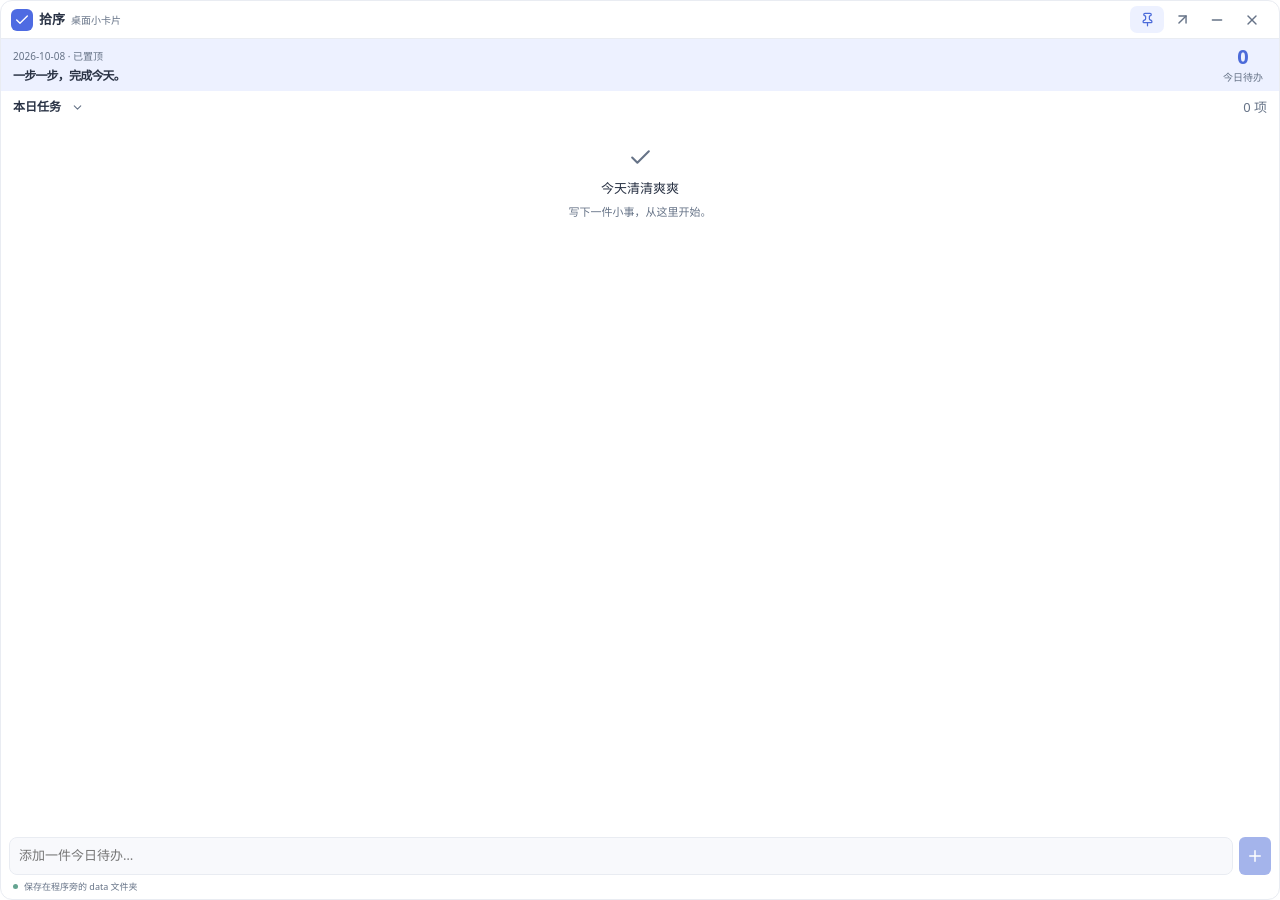
Test case: 顶部按钮和右键菜单可最小化到任务栏
The width and height of the screenshot is (1280, 900).
Expected: the text "今天清清爽爽" is shown, [601,178,679,199]
Click the button named "最小化到任务栏" at (1217, 20), box [1200,6,1234,33]
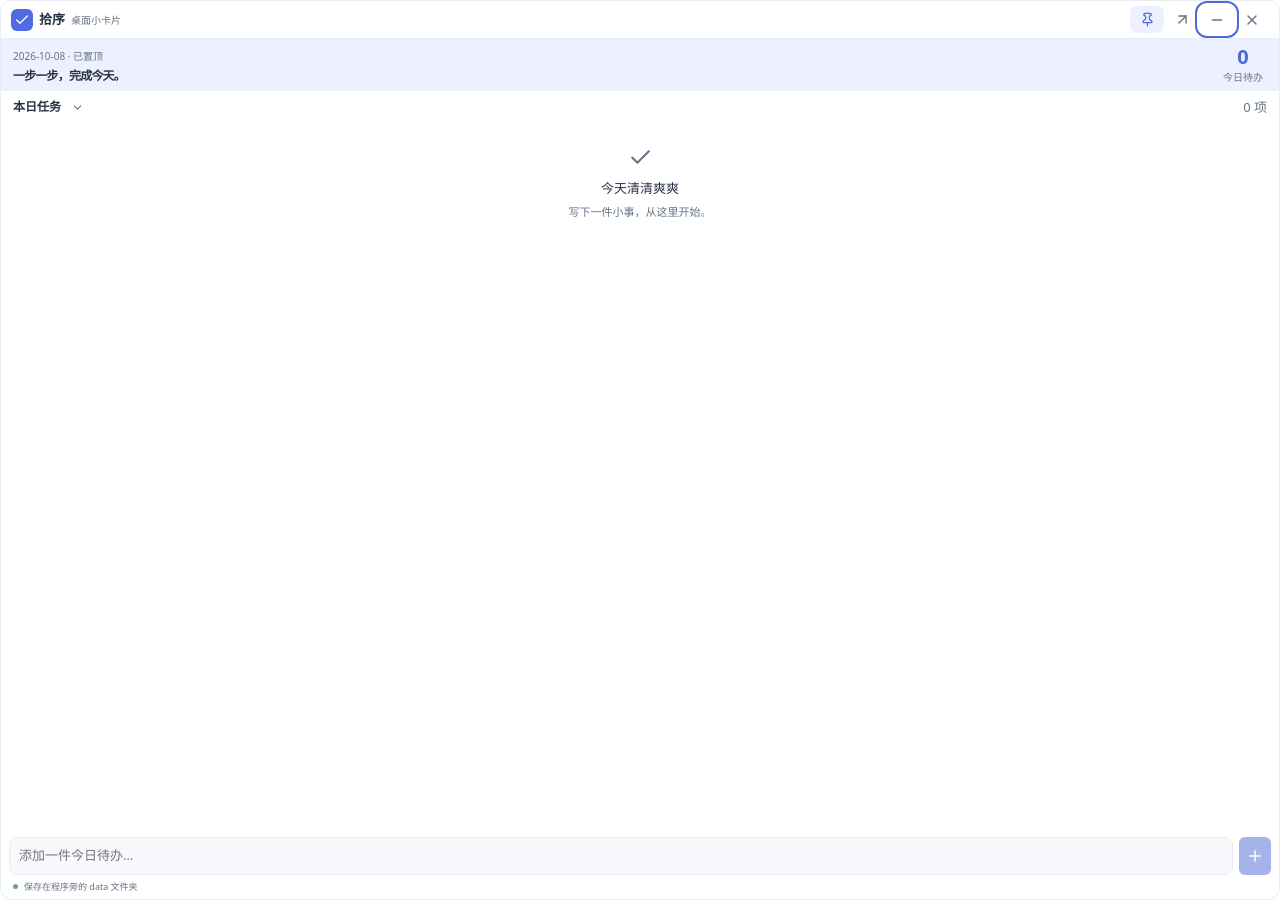
Right-click the heading "一步一步，完成今天。" at (69, 76), box [13,68,125,85]
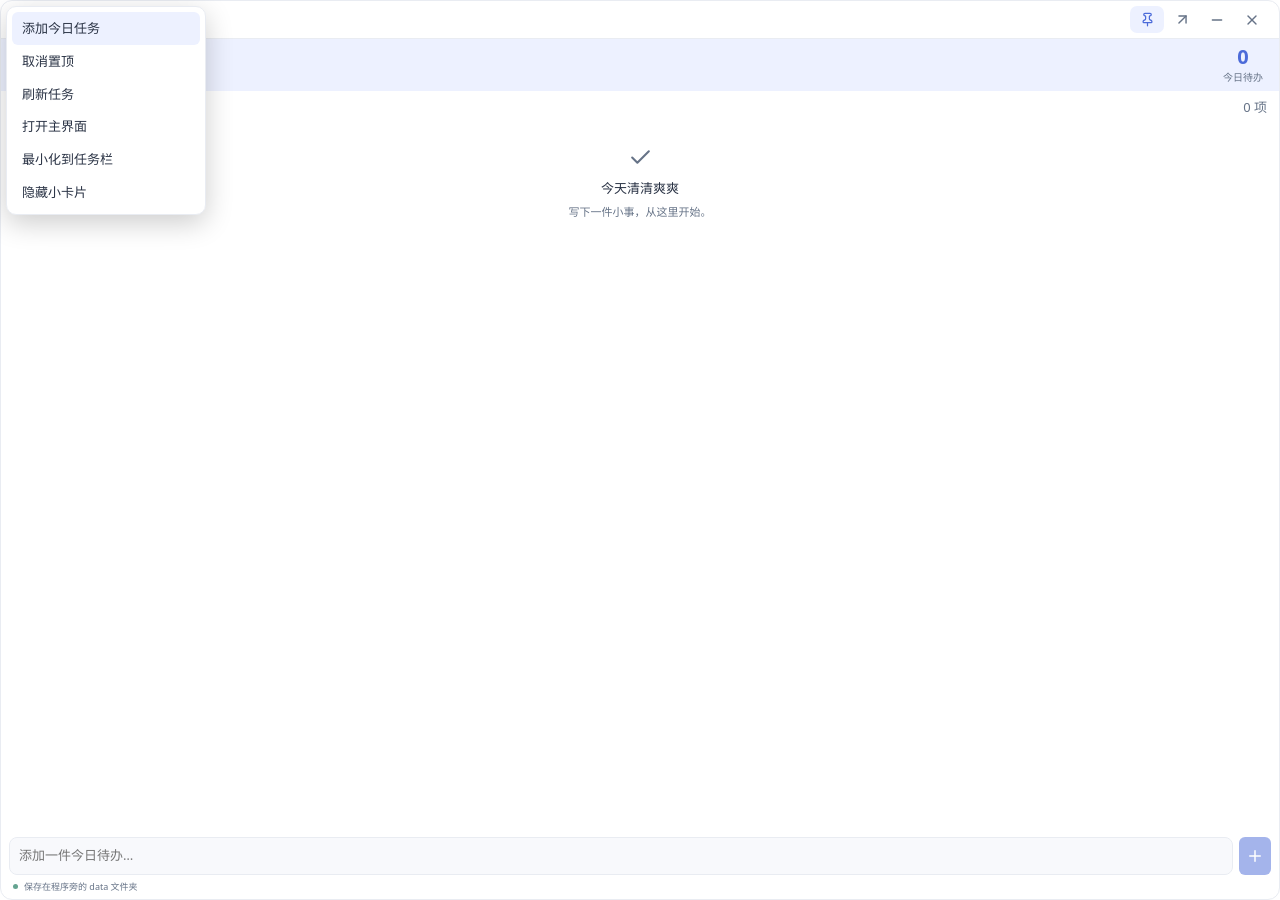
Click the menu item "最小化到任务栏" at (106, 160), box [12,143,200,176]
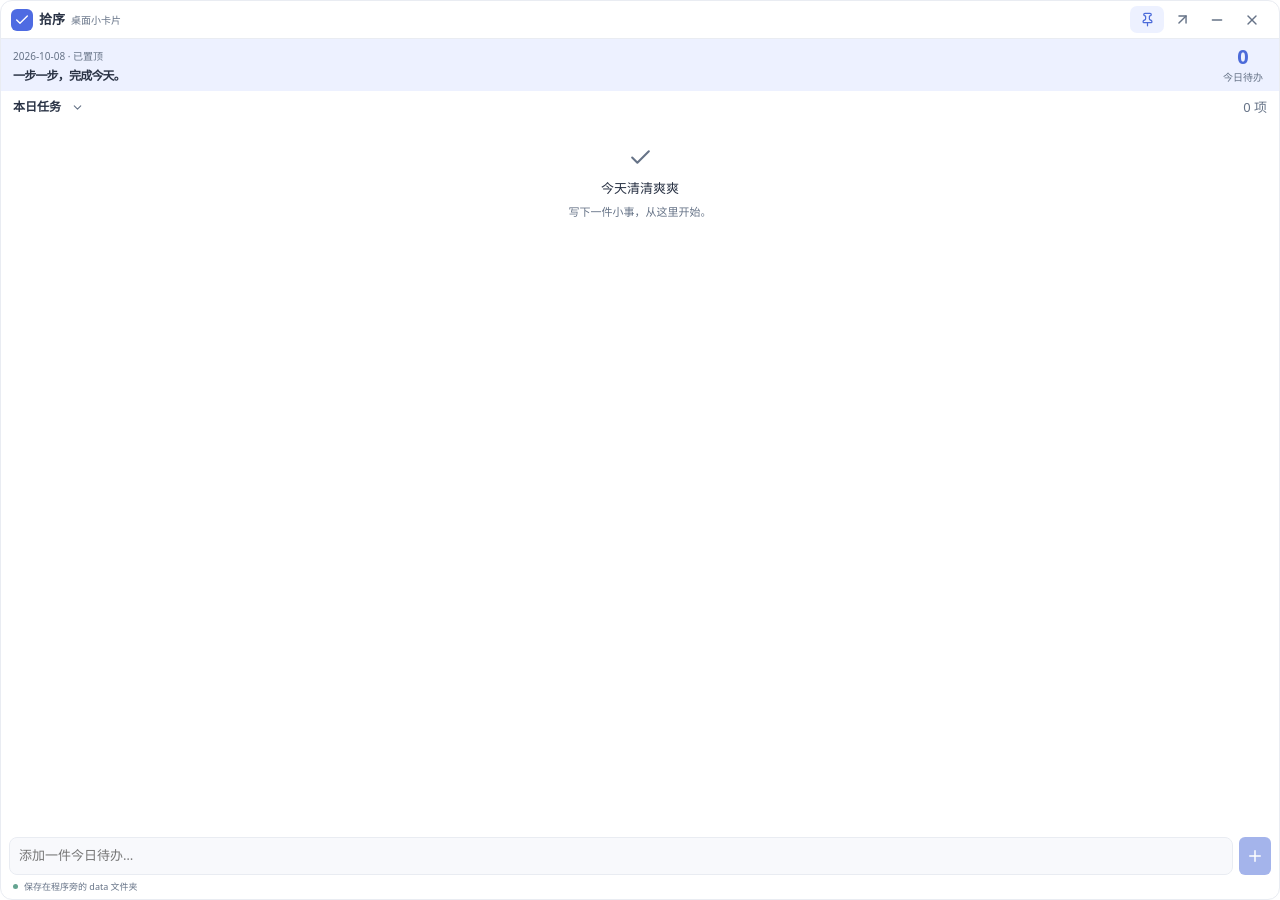
Expected: the menu is gone
